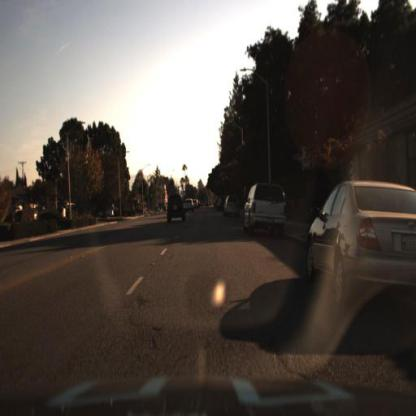car: (304, 180, 416, 312), (244, 180, 288, 232), (166, 192, 187, 225), (86, 204, 117, 219), (223, 194, 241, 219), (185, 197, 195, 214)
